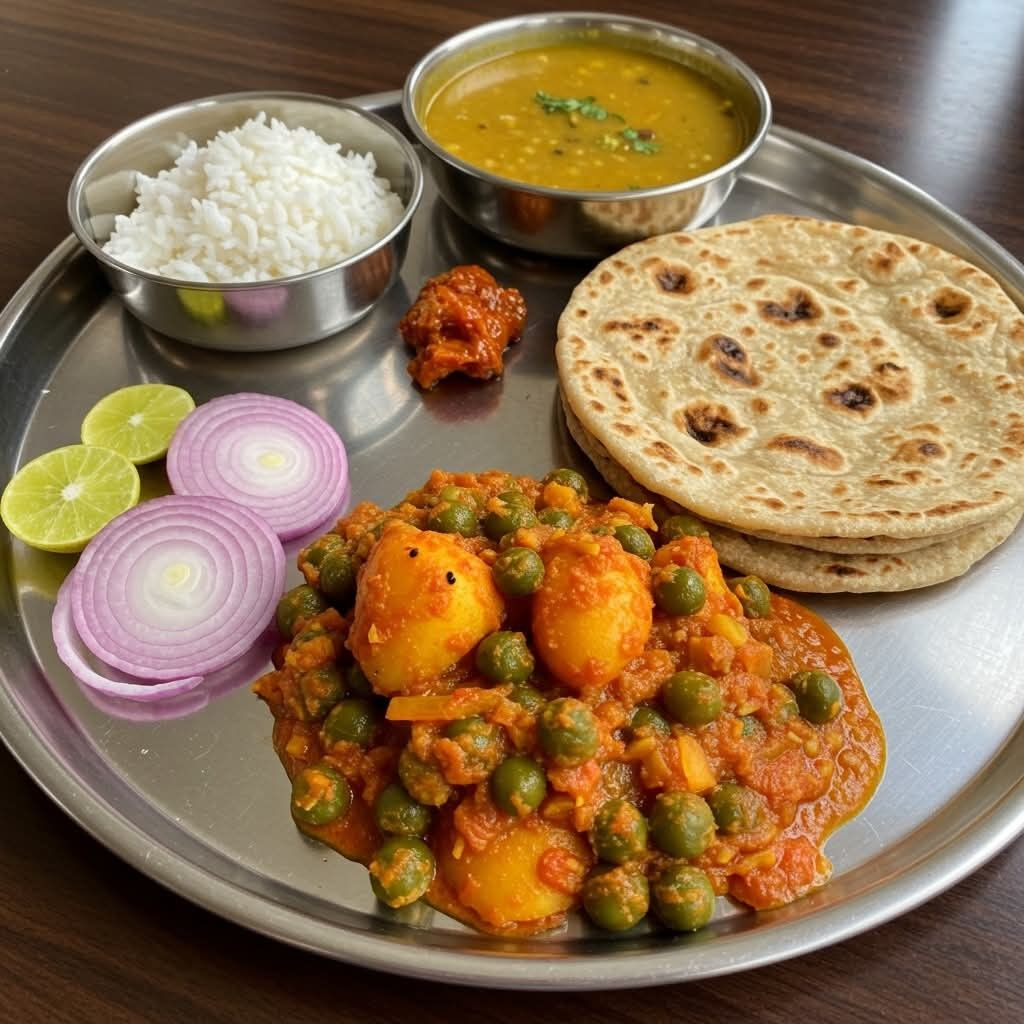bhat: (111, 109, 403, 279)
dal: (426, 61, 741, 191)
sabji: (269, 466, 873, 953)
